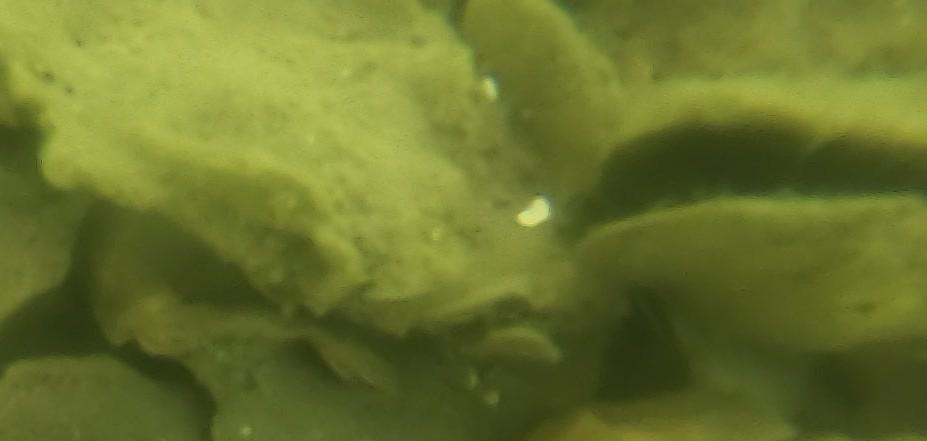3: (575, 73, 927, 354)
Oyster-Closed: (172, 334, 523, 441), (672, 311, 827, 430), (0, 354, 198, 441), (0, 129, 86, 326), (540, 394, 794, 441)
